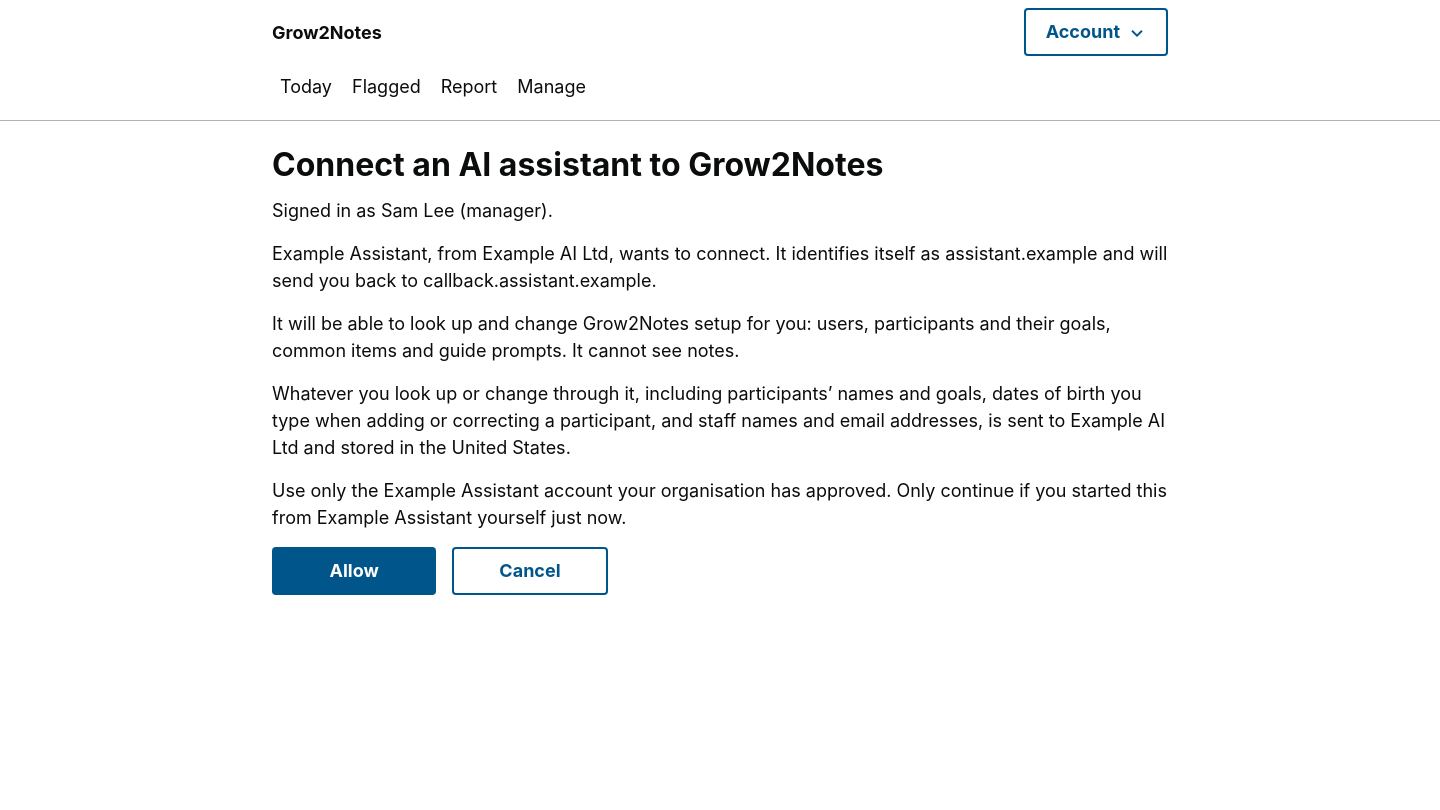
Test: a manager or a Support account › shows the general error, and does not leave, for an address that is not the server’s
Click the button "Allow" at (354, 571), box left=272, top=547, right=436, bottom=595
Wait 2 ms
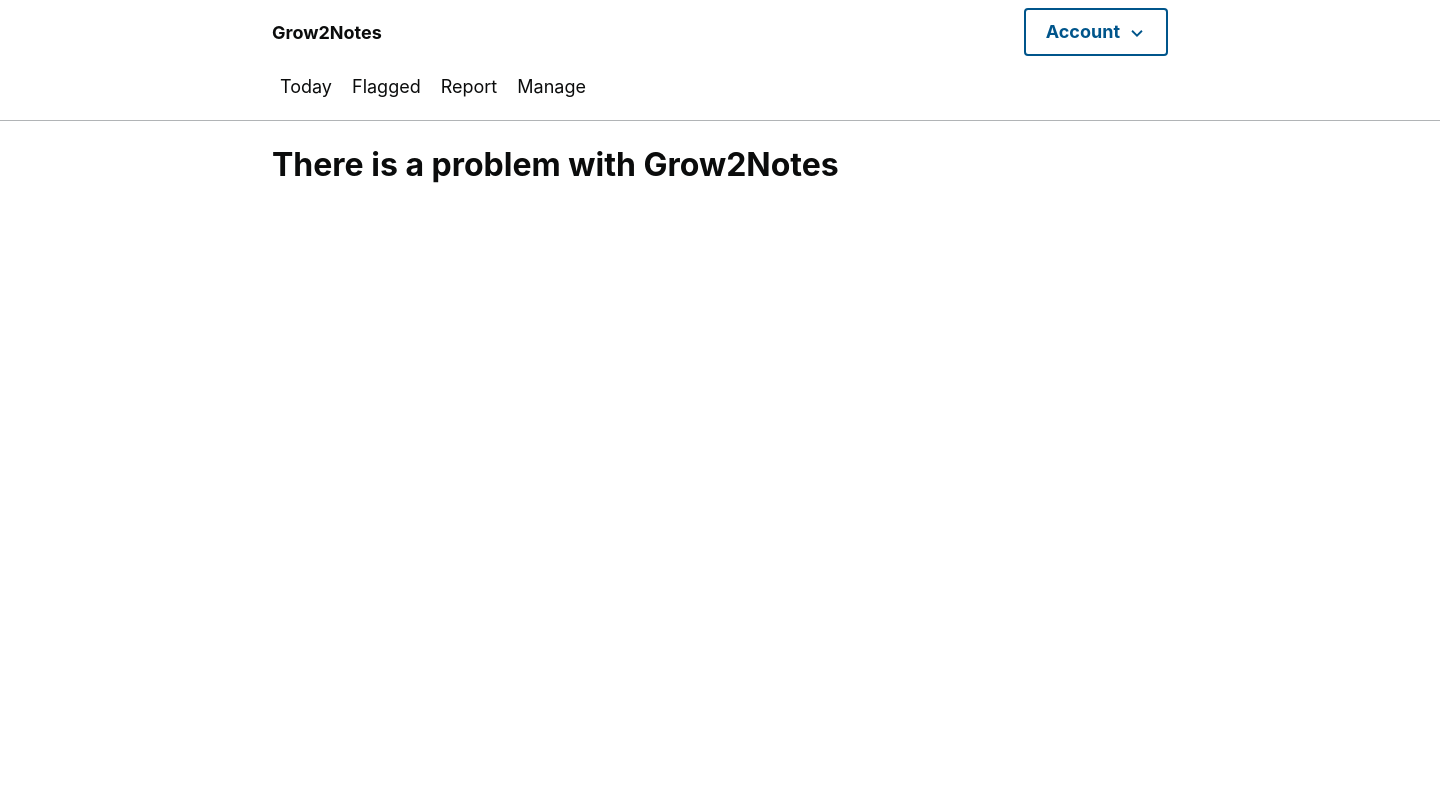
Expected: the button "Allow" is gone
Expected: the button "Cancel" is gone
